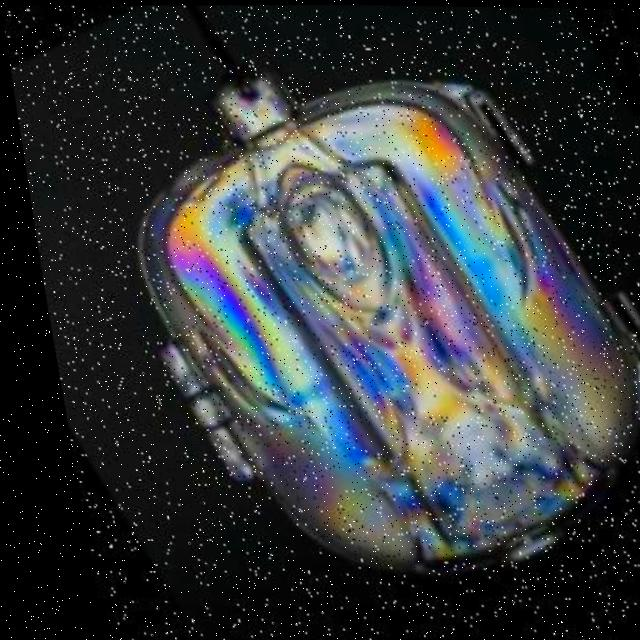mause: (0, 4, 640, 640)
